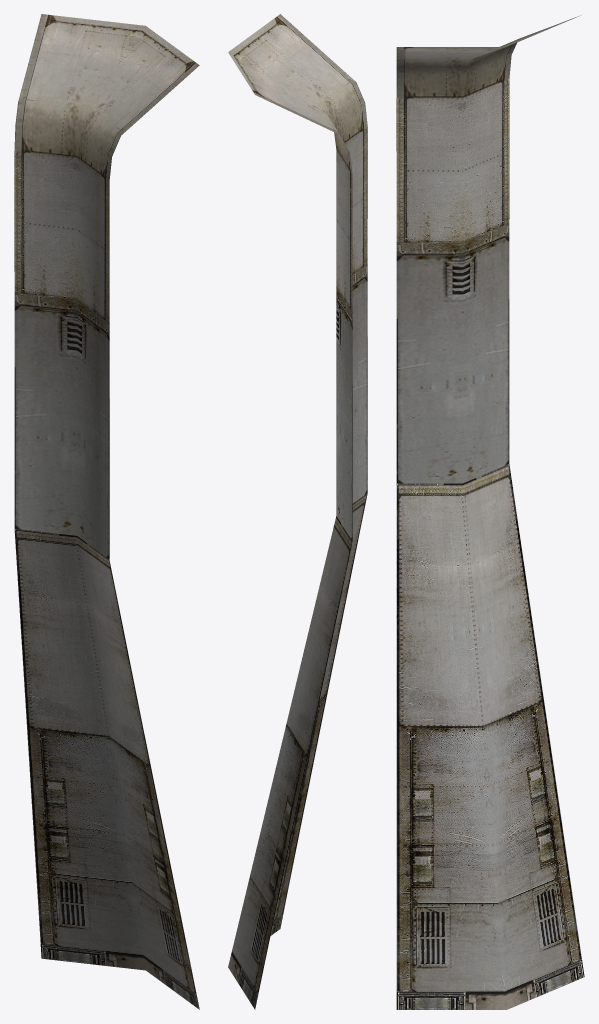
File: Wall_I_Giant10mts_06.fbx
3 views of the same model, side by side, from view 1: azimuth 30°, elevation 25°; view 2: azimuth 150°, elevation 25°; view 3: azimuth 270°, elevation 25° (orthographic). The views are drawn at different scales.
Visible parts, largest first — view 1: Wall_I_Giant10mts_06; view 2: Wall_I_Giant10mts_06; view 3: Wall_I_Giant10mts_06.
Boxes of the visible parts, x1,y1,x2,y2 form: Wall_I_Giant10mts_06: (14, 14, 199, 1009); Wall_I_Giant10mts_06: (228, 14, 367, 1009); Wall_I_Giant10mts_06: (396, 15, 584, 1009).
Bounding box in the file's own units: 288 × 2000 × 354.
